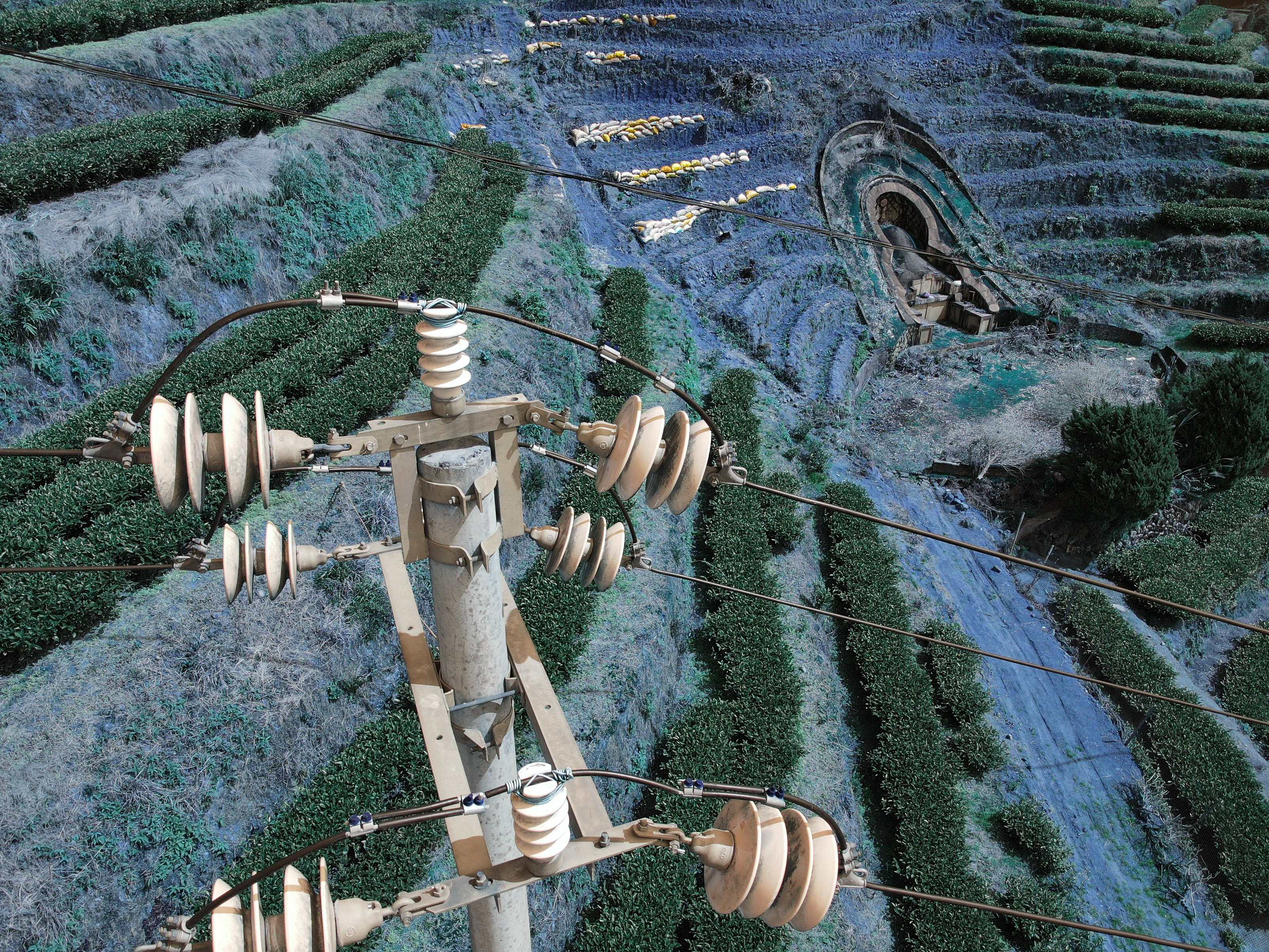severe_soiling_no_discharge_whole: (148, 383, 315, 514), (691, 795, 841, 934), (572, 395, 715, 517), (205, 860, 385, 948), (217, 519, 325, 604), (531, 503, 629, 592)
